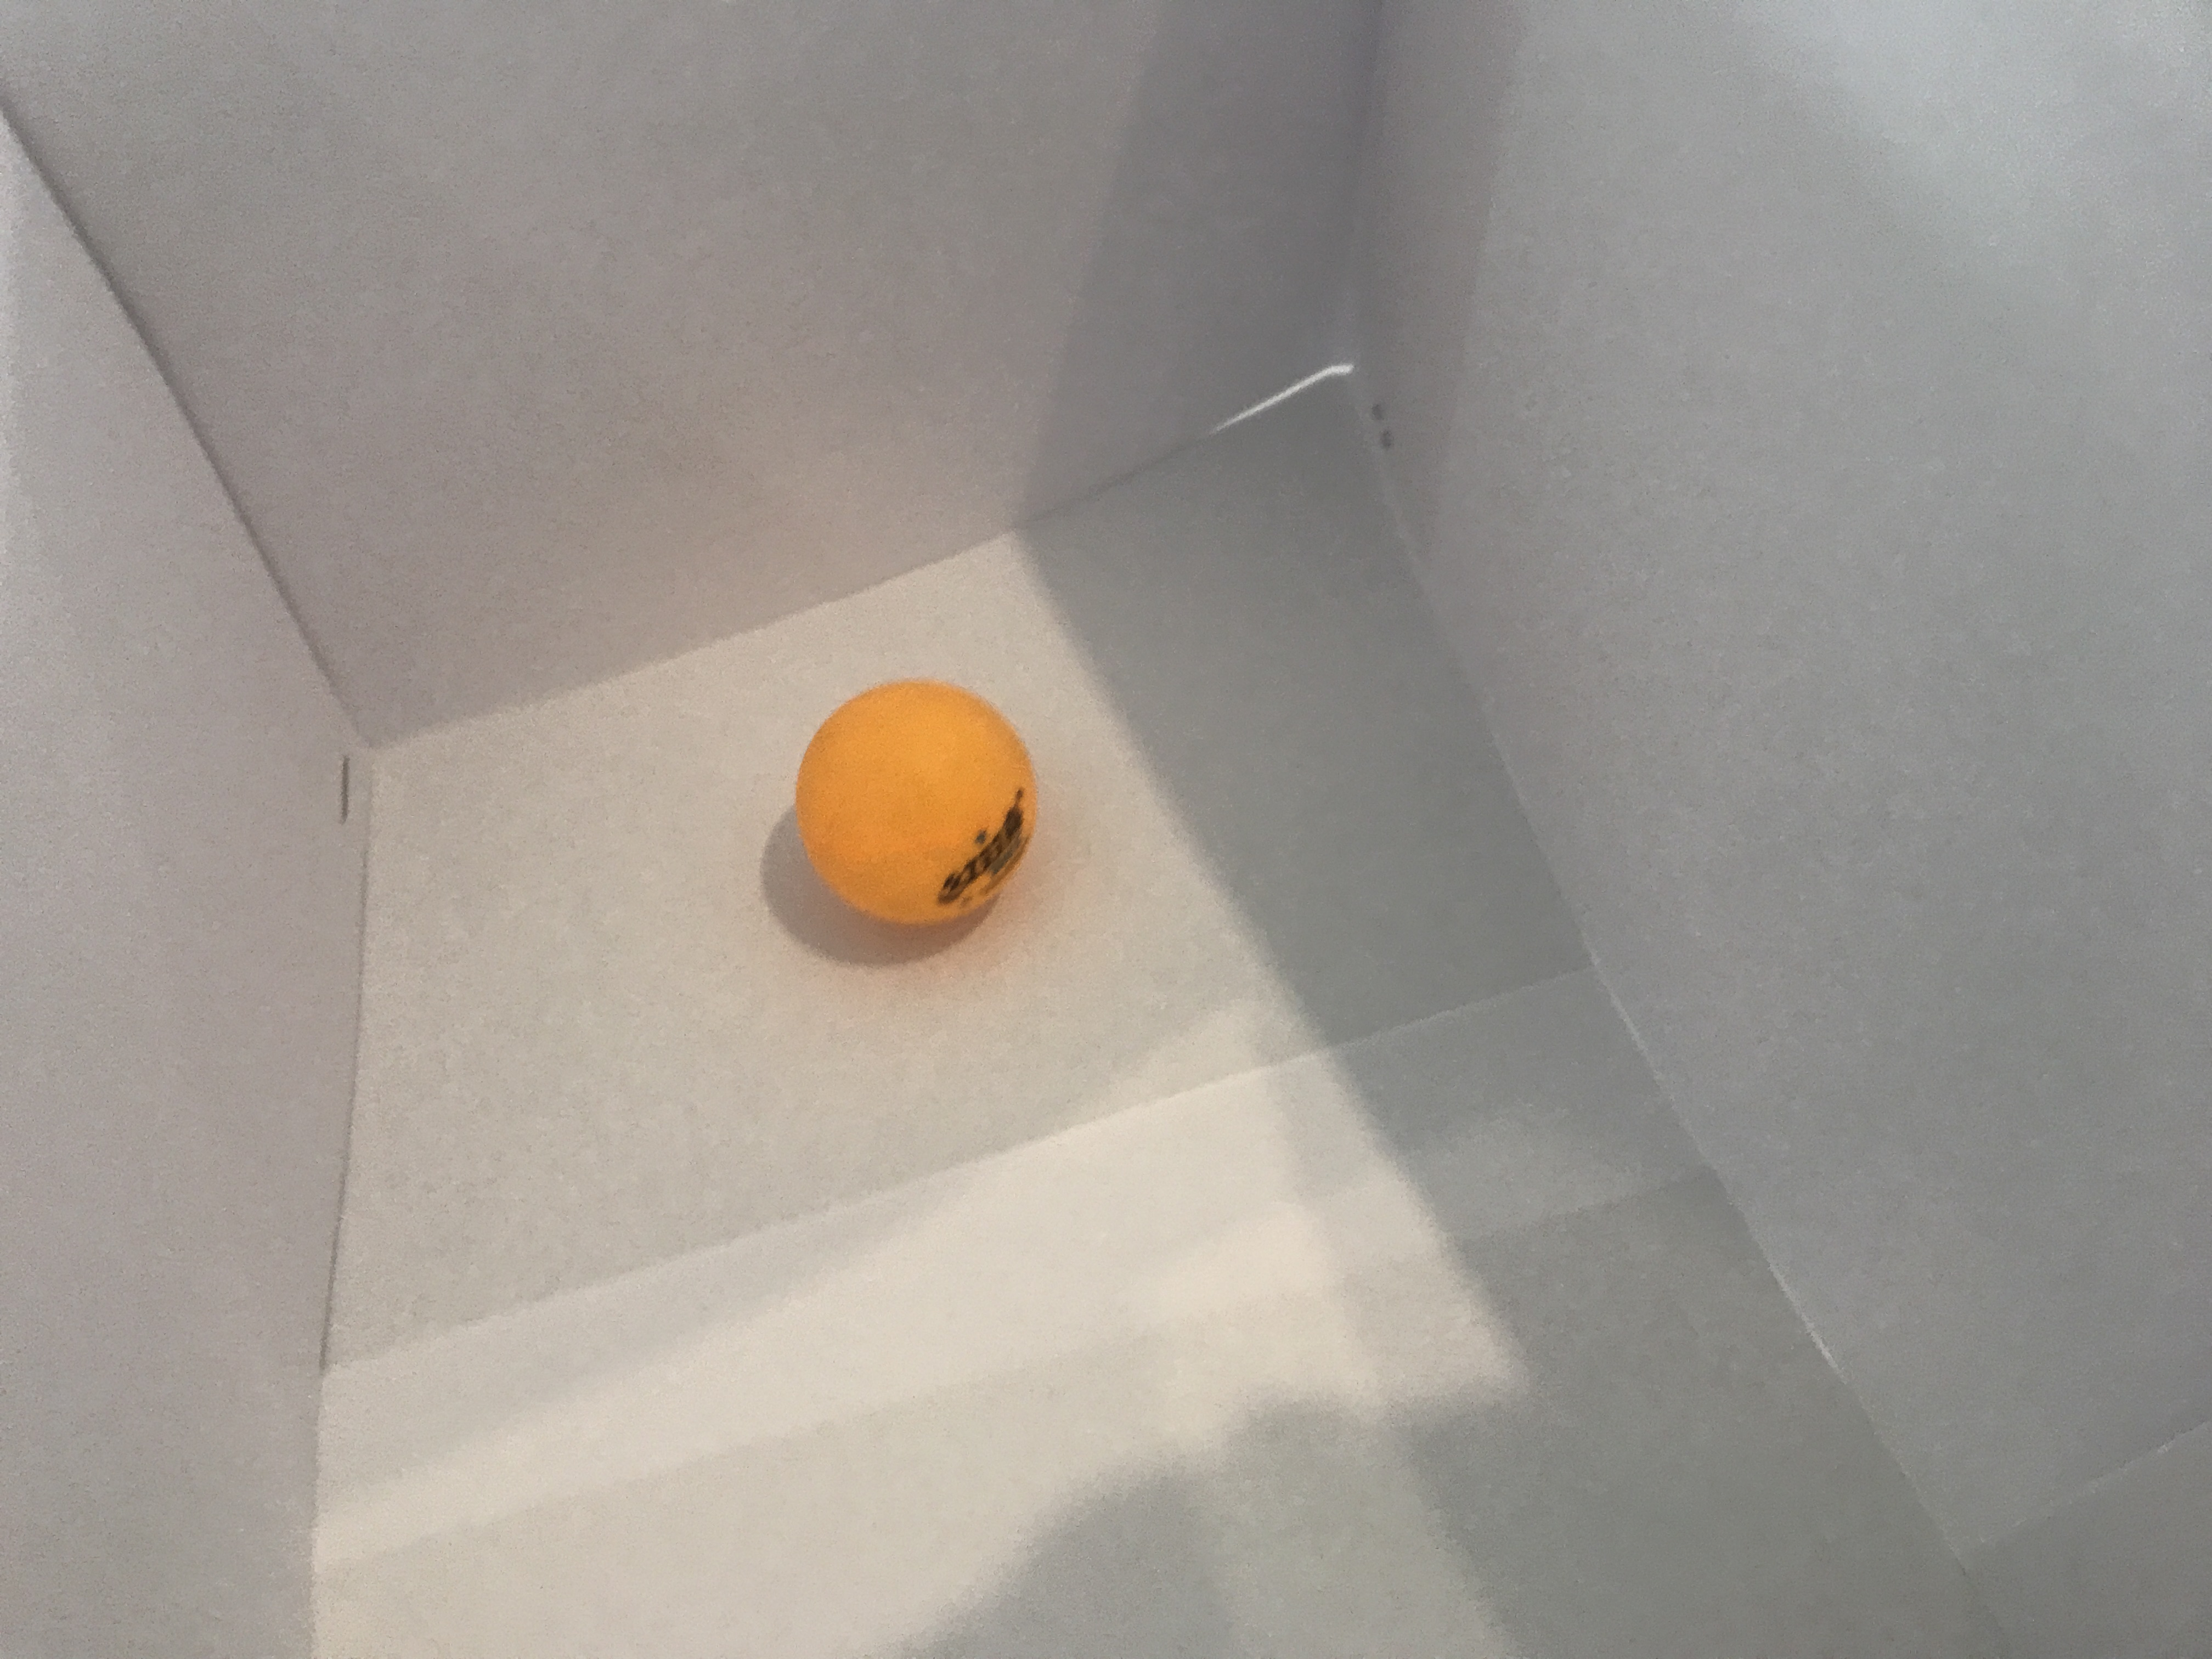pp: (792, 678, 1045, 936)
